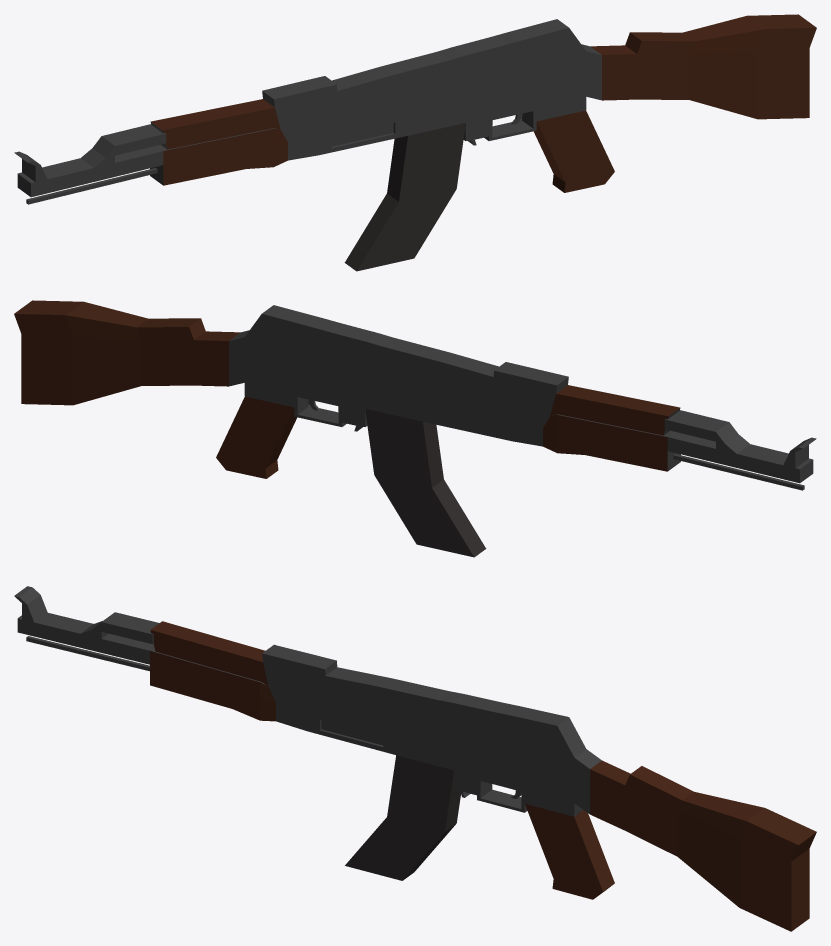
3 views of the same model, one above another, from view 1: azimuth 30°, elevation 25°; view 2: azimuth 150°, elevation 25°; view 3: azimuth 330°, elevation 25° (orthographic).
Visible parts, largest first — view 1: Cube; view 2: Cube; view 3: Cube.
Boxes of the visible parts, x1,y1,x2,y2 form: Cube: (14, 14, 816, 271); Cube: (14, 300, 816, 557); Cube: (14, 586, 816, 931).
Bounding box in the file's own units: 799 × 188 × 32.22.
